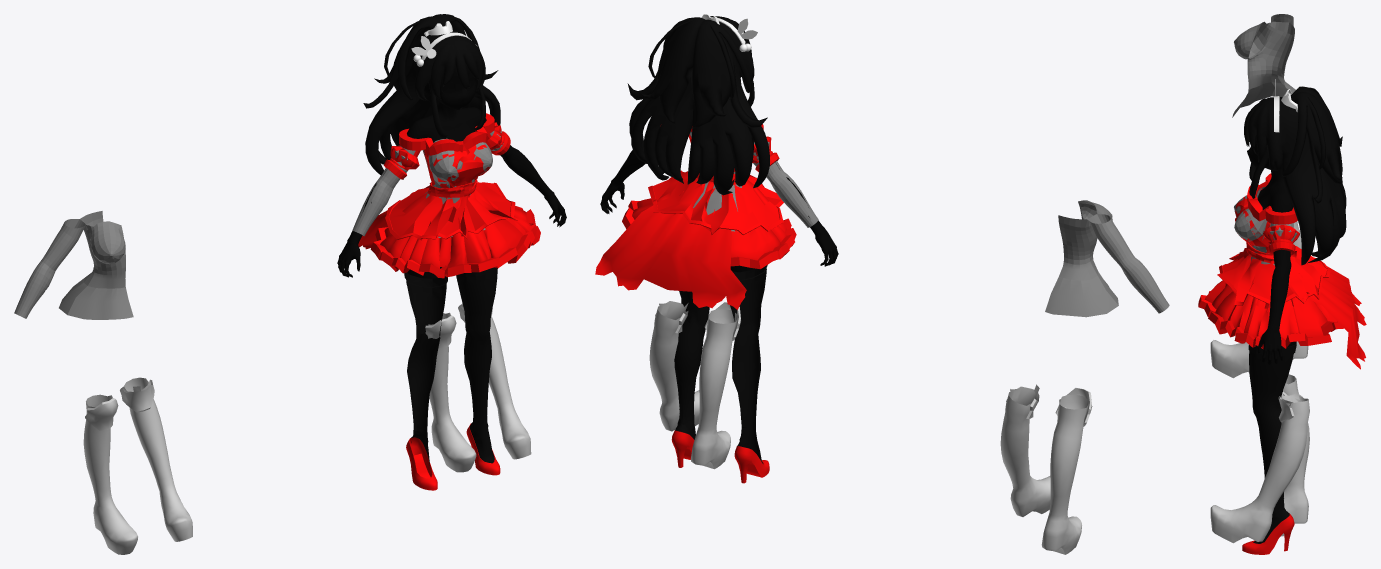
The picture shows the model from 3 angles, left to right: view 1: azimuth 30°, elevation 25°; view 2: azimuth 150°, elevation 25°; view 3: azimuth 270°, elevation 25°; orthographic projection. The views are drawn at different scales.
Visible parts, largest first — view 1: _polySurface56 _polySurface60 _polySurface58, _group3 _group5 _polySurface30, _polySurface42, _polySurface64, _group4_polySurface31, _group3 _group4 _polySurface37, _group3 _group4 _polySurface33, _polySurface22 _YellowHeart, _YellowHeart _polySurface24, _group3 _polySurface22 _YellowHeart, _group3 _YellowHeart _polySurface24, _group3 _polySurface26 _group5 (+6 smaller); view 2: _group3 _group5 _polySurface30, _polySurface66, _group3 _polySurface26 _group5, _polySurface42, _polySurface56 _polySurface60 _polySurface58, _polySurface22 _YellowHeart, _group3 _polySurface22 _YellowHeart, _group3 _group4 _polySurface33, _YellowHeart _polySurface24, _group3 _group4 _polySurface37, _group3 _YellowHeart _polySurface24, _polySurface64 (+3 smaller); view 3: _group3 _group5 _polySurface30, _polySurface64, _group3 _YellowHeart _polySurface24, _polySurface56 _polySurface60 _polySurface58, _polySurface42, _group3 _group4 _polySurface37, _group3 _polySurface26 _group5, _group4_polySurface31, _polySurface66, _group3 _polySurface22 _YellowHeart, _YellowHeart _polySurface24, _group3 _polySurface47 (+6 smaller).
Boxes of the visible parts, x1,y1,x2,y2 form: _polySurface56 _polySurface60 _polySurface58: (385, 122, 517, 240); _group3 _group5 _polySurface30: (365, 30, 500, 179); _polySurface42: (14, 211, 133, 319); _polySurface64: (370, 199, 540, 278); _group4_polySurface31: (337, 65, 566, 278); _group3 _group4 _polySurface37: (456, 267, 497, 463); _group3 _group4 _polySurface33: (404, 272, 447, 467); _polySurface22 _YellowHeart: (83, 394, 137, 554); _YellowHeart _polySurface24: (123, 377, 192, 541); _group3 _polySurface22 _YellowHeart: (428, 312, 476, 472); _group3 _YellowHeart _polySurface24: (461, 303, 531, 459); _group3 _polySurface26 _group5: (363, 14, 498, 108); _group3 _group5 _polySurface30: (629, 16, 769, 195); _polySurface66: (595, 205, 746, 309); _group3 _polySurface26 _group5: (627, 17, 767, 128); _polySurface42: (1045, 200, 1169, 317); _polySurface56 _polySurface60 _polySurface58: (648, 134, 783, 234); _polySurface22 _YellowHeart: (1041, 394, 1088, 554); _group3 _polySurface22 _YellowHeart: (690, 309, 737, 469); _group3 _group4 _polySurface33: (730, 265, 767, 463); _YellowHeart _polySurface24: (1000, 384, 1050, 516); _group3 _group4 _polySurface37: (674, 291, 709, 439); _group3 _YellowHeart _polySurface24: (649, 303, 699, 431); _polySurface64: (622, 191, 796, 269); _group3 _group5 _polySurface30: (1244, 97, 1346, 265); _polySurface64: (1198, 273, 1344, 349); _group3 _YellowHeart _polySurface24: (1210, 392, 1309, 543); _polySurface56 _polySurface60 _polySurface58: (1217, 196, 1330, 311); _polySurface42: (1232, 14, 1295, 117); _group3 _group4 _polySurface37: (1248, 342, 1296, 543); _group3 _polySurface26 _group5: (1282, 86, 1342, 203); _group4_polySurface31: (1247, 135, 1295, 364); _polySurface66: (1308, 266, 1366, 369); _group3 _polySurface22 _YellowHeart: (1281, 374, 1309, 536); _YellowHeart _polySurface24: (1210, 230, 1301, 378); _group3 _polySurface47: (1234, 208, 1297, 300).
Bounding box in the file's own units: 17.45 × 13.56 × 4.66.
